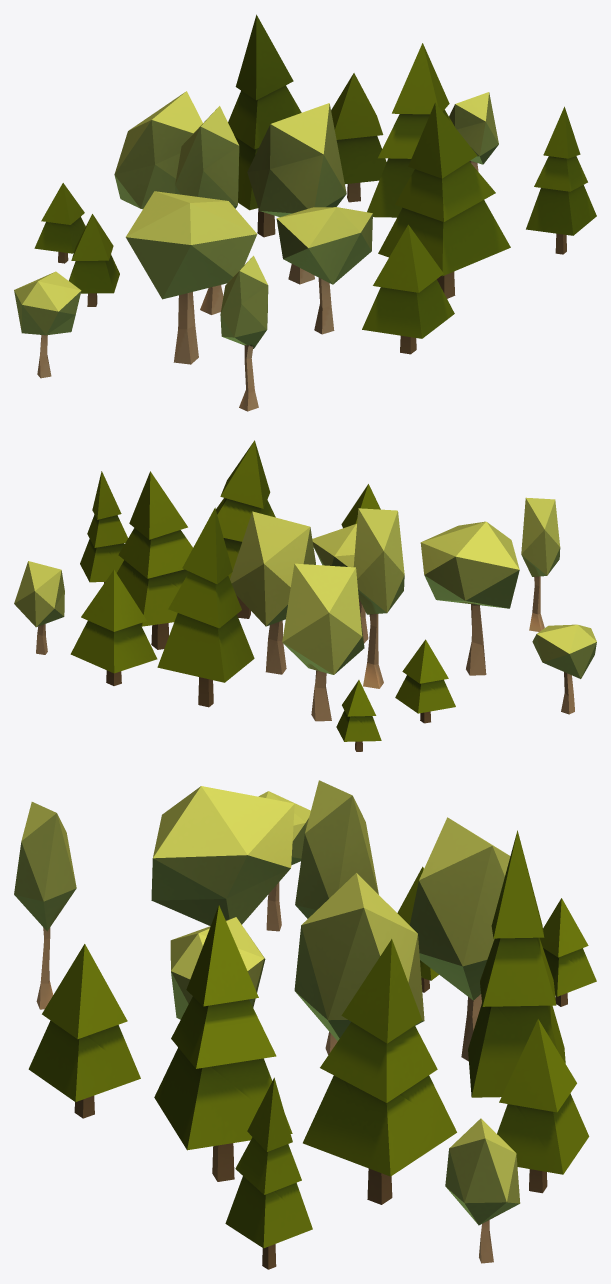
The model's file is forest.glb.
3 views of the same model, one above another, from view 1: azimuth 30°, elevation 25°; view 2: azimuth 150°, elevation 25°; view 3: azimuth 270°, elevation 25° (orthographic). The views are drawn at different scales.
Visible parts, largest first — view 1: node-0; view 2: node-0; view 3: node-0.
Part boxes in pixels (x1,y1,x2,y2): node-0: (14, 14, 596, 411); node-0: (14, 440, 596, 751); node-0: (14, 780, 596, 1269).
Size of the model in its own units: 8.75 by 3.23 by 5.73.
1 material, 1 textured.
